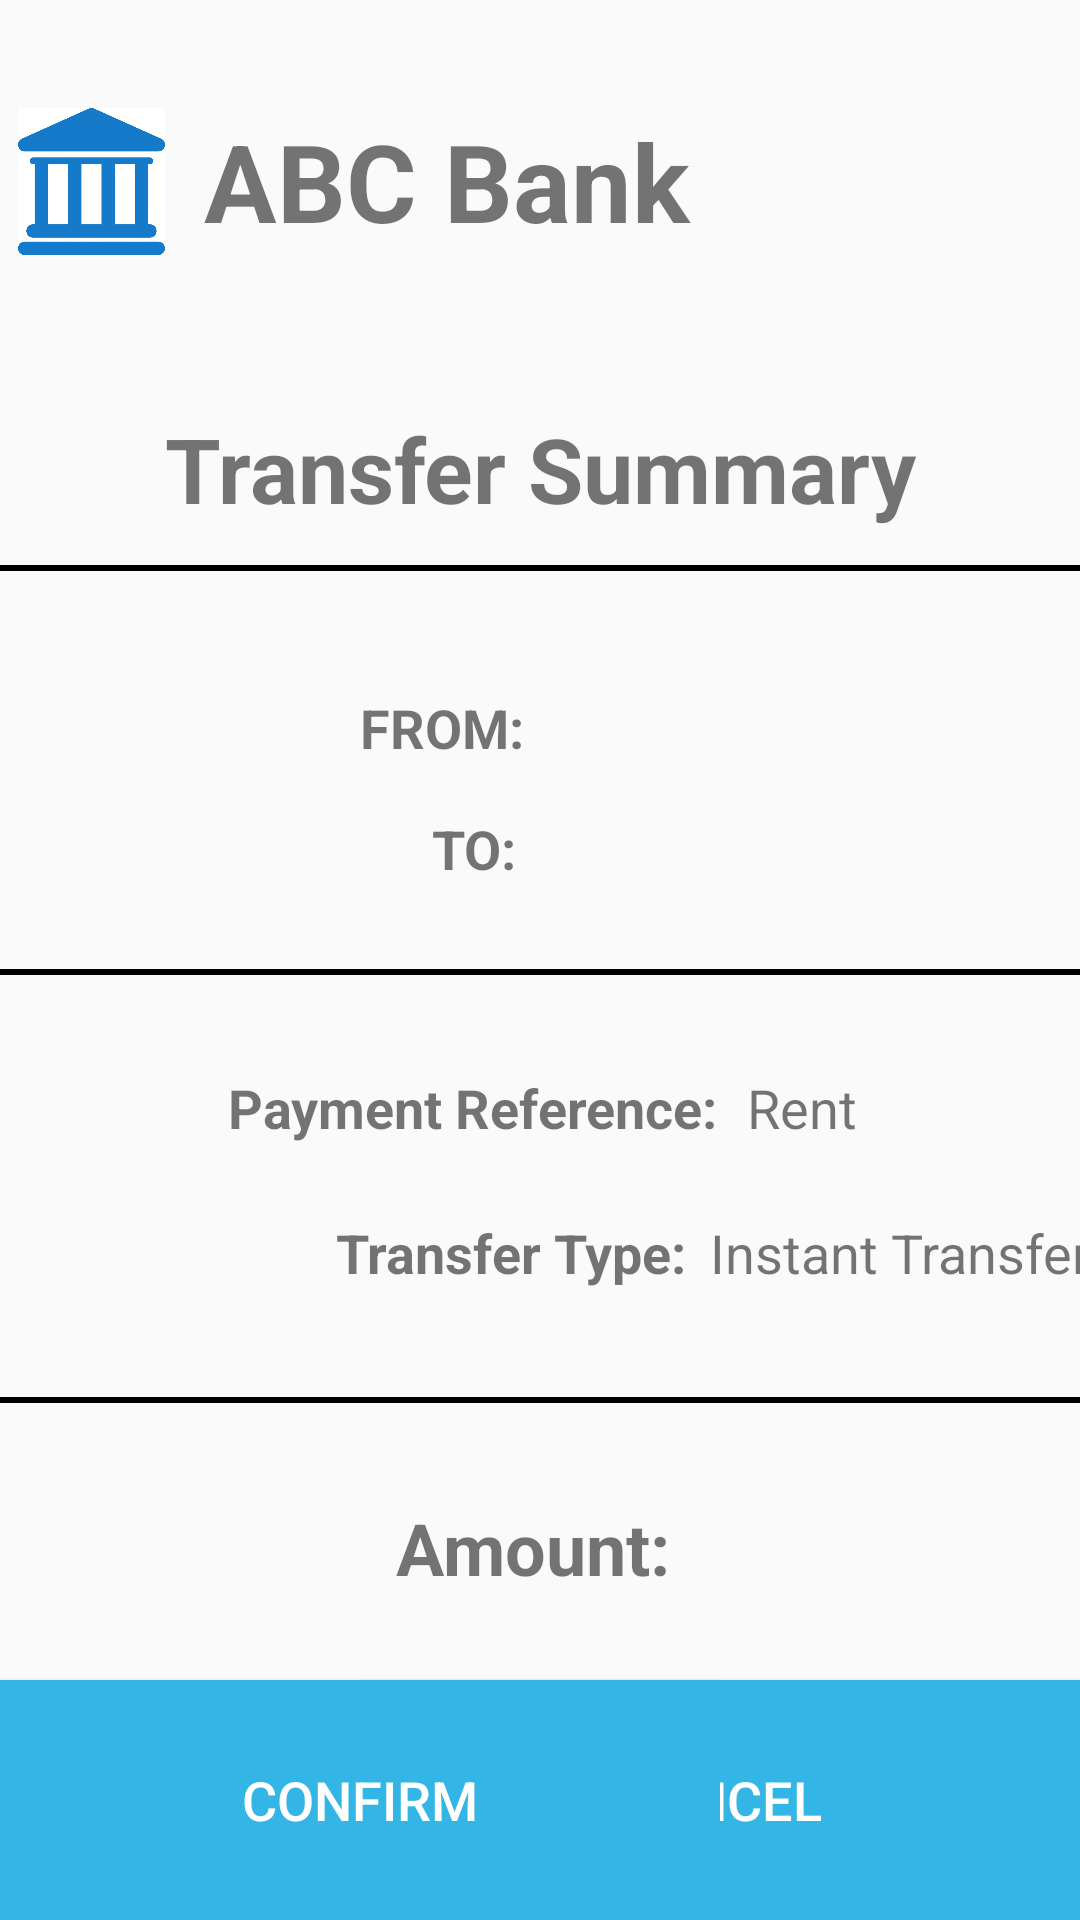

Screen size 1080×1920. Icon name, then its center in pixels as point (x, y):
bankicon: point (91, 181)
